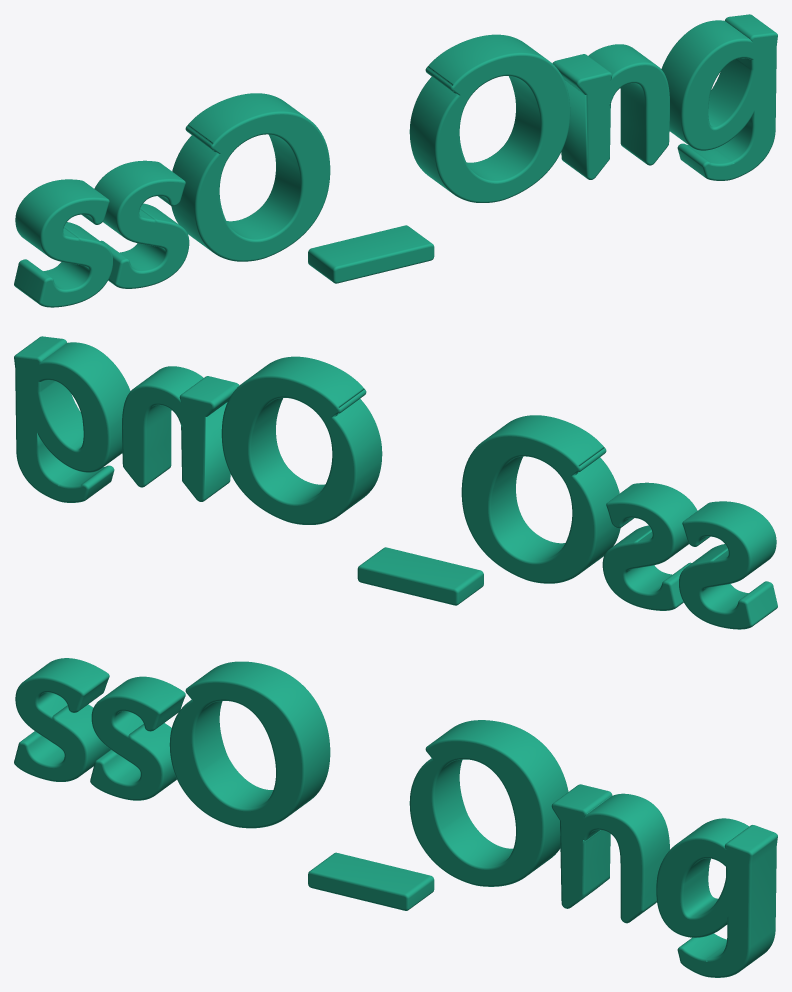
The model's file is sso_ong.glb.
3 renders of one model, top to bottom at view 1: azimuth 30°, elevation 25°; view 2: azimuth 150°, elevation 25°; view 3: azimuth 330°, elevation 25°, orthographic.
Visible parts, largest first — view 1: Text; view 2: Text; view 3: Text.
Part boxes in pixels (x1,y1,x2,y2): Text: (14,14,777,307); Text: (14,336,777,629); Text: (14,658,777,977).
Size of the model in its own units: 3.49 by 0.8469 by 0.22.
